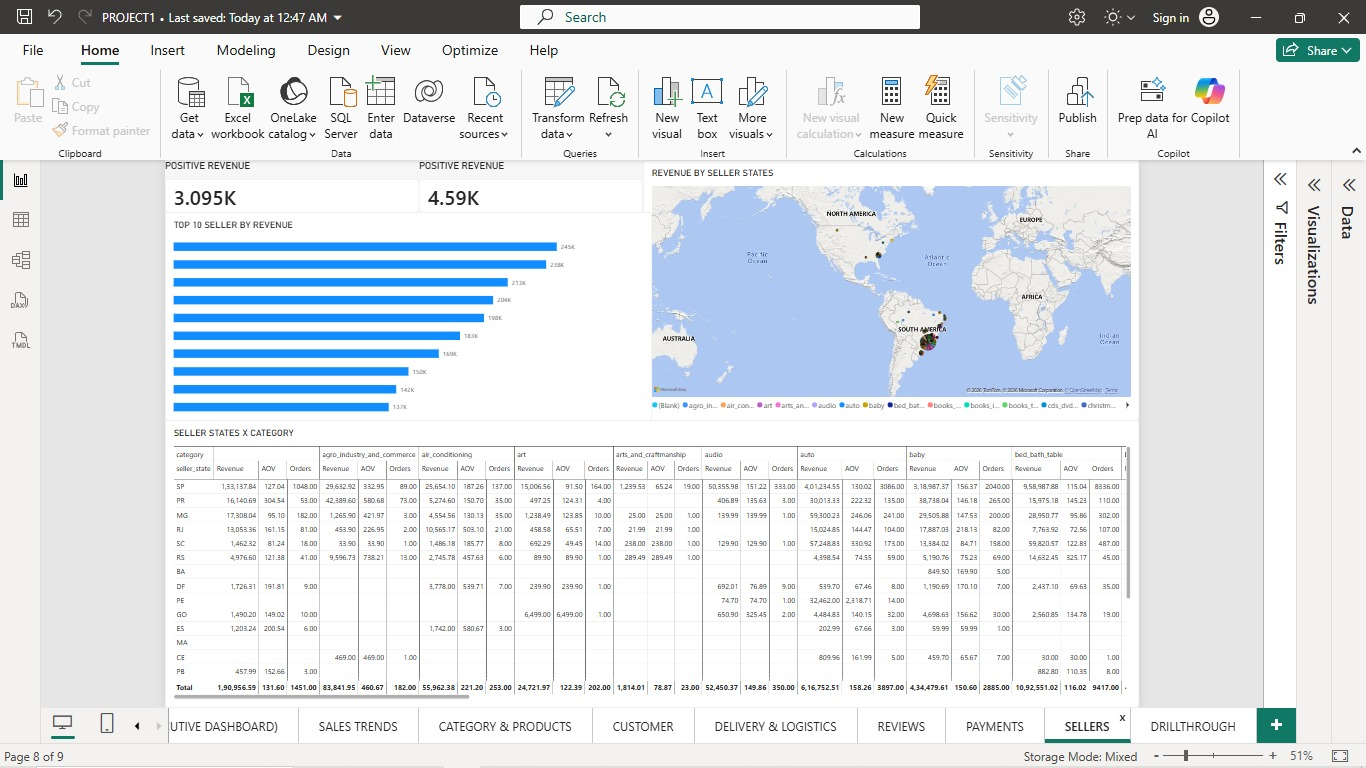

The page's visual inventory and layout, read from the dashboard file:
{"tool":"powerbi","page":{"name":"SELLERS","canvas":[1920,1080],"ordinal":7},"visuals":[{"type":"cardVisual","title":"POSITIVE REVENUE","fields":{"Data":["public bi_fact_sales.Sellers"]},"box":[0,0,501.4,103.3],"z":0},{"type":"cardVisual","title":"POSITIVE REVENUE","fields":{"Data":["public bi_fact_sales.Revenue per Seller"]},"box":[501.4,0,440.9,103.3],"z":1},{"type":"map","title":"REVENUE BY SELLER STATES","fields":{"Category":["public bi_fact_sales.seller_state"],"Series":["public bi_fact_sales.category"],"Size":["public bi_fact_sales.Revenue"]},"box":[942.4,0,977.6,514],"z":2},{"type":"barChart","title":"TOP 10 SELLER BY REVENUE","fields":{"Category":["public bi_fact_sales.seller_id"],"Y":["public bi_fact_sales.Revenue"]},"box":[0,103.3,960,410.7],"z":3},{"type":"pivotTable","title":"SELLER STATES X CATEGORY","fields":{"Columns":["public bi_fact_sales.category"],"Rows":["public bi_fact_sales.seller_state"],"Values":["public bi_fact_sales.Revenue","DimDate.AOV","public bi_fact_sales.Orders"]},"box":[0,513.1,1920,566.9],"z":4}]}

Visuals, with their boxes on the page's 1920x1080 design canvas (x1, y1, x2, y2). These are canvas units, not pixel positions in the 1366x768 screenshot, which may show the page scaled, cropped or inside an application window:
"POSITIVE REVENUE" cardVisual: select_region(0, 0, 501, 103)
"POSITIVE REVENUE" cardVisual: select_region(501, 0, 942, 103)
"REVENUE BY SELLER STATES" map: select_region(942, 0, 1920, 514)
"TOP 10 SELLER BY REVENUE" barChart: select_region(0, 103, 960, 514)
"SELLER STATES X CATEGORY" pivotTable: select_region(0, 513, 1920, 1080)
